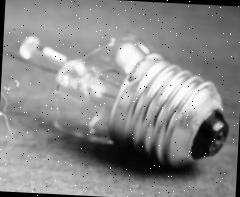lightbulb: (12, 25, 234, 171)
